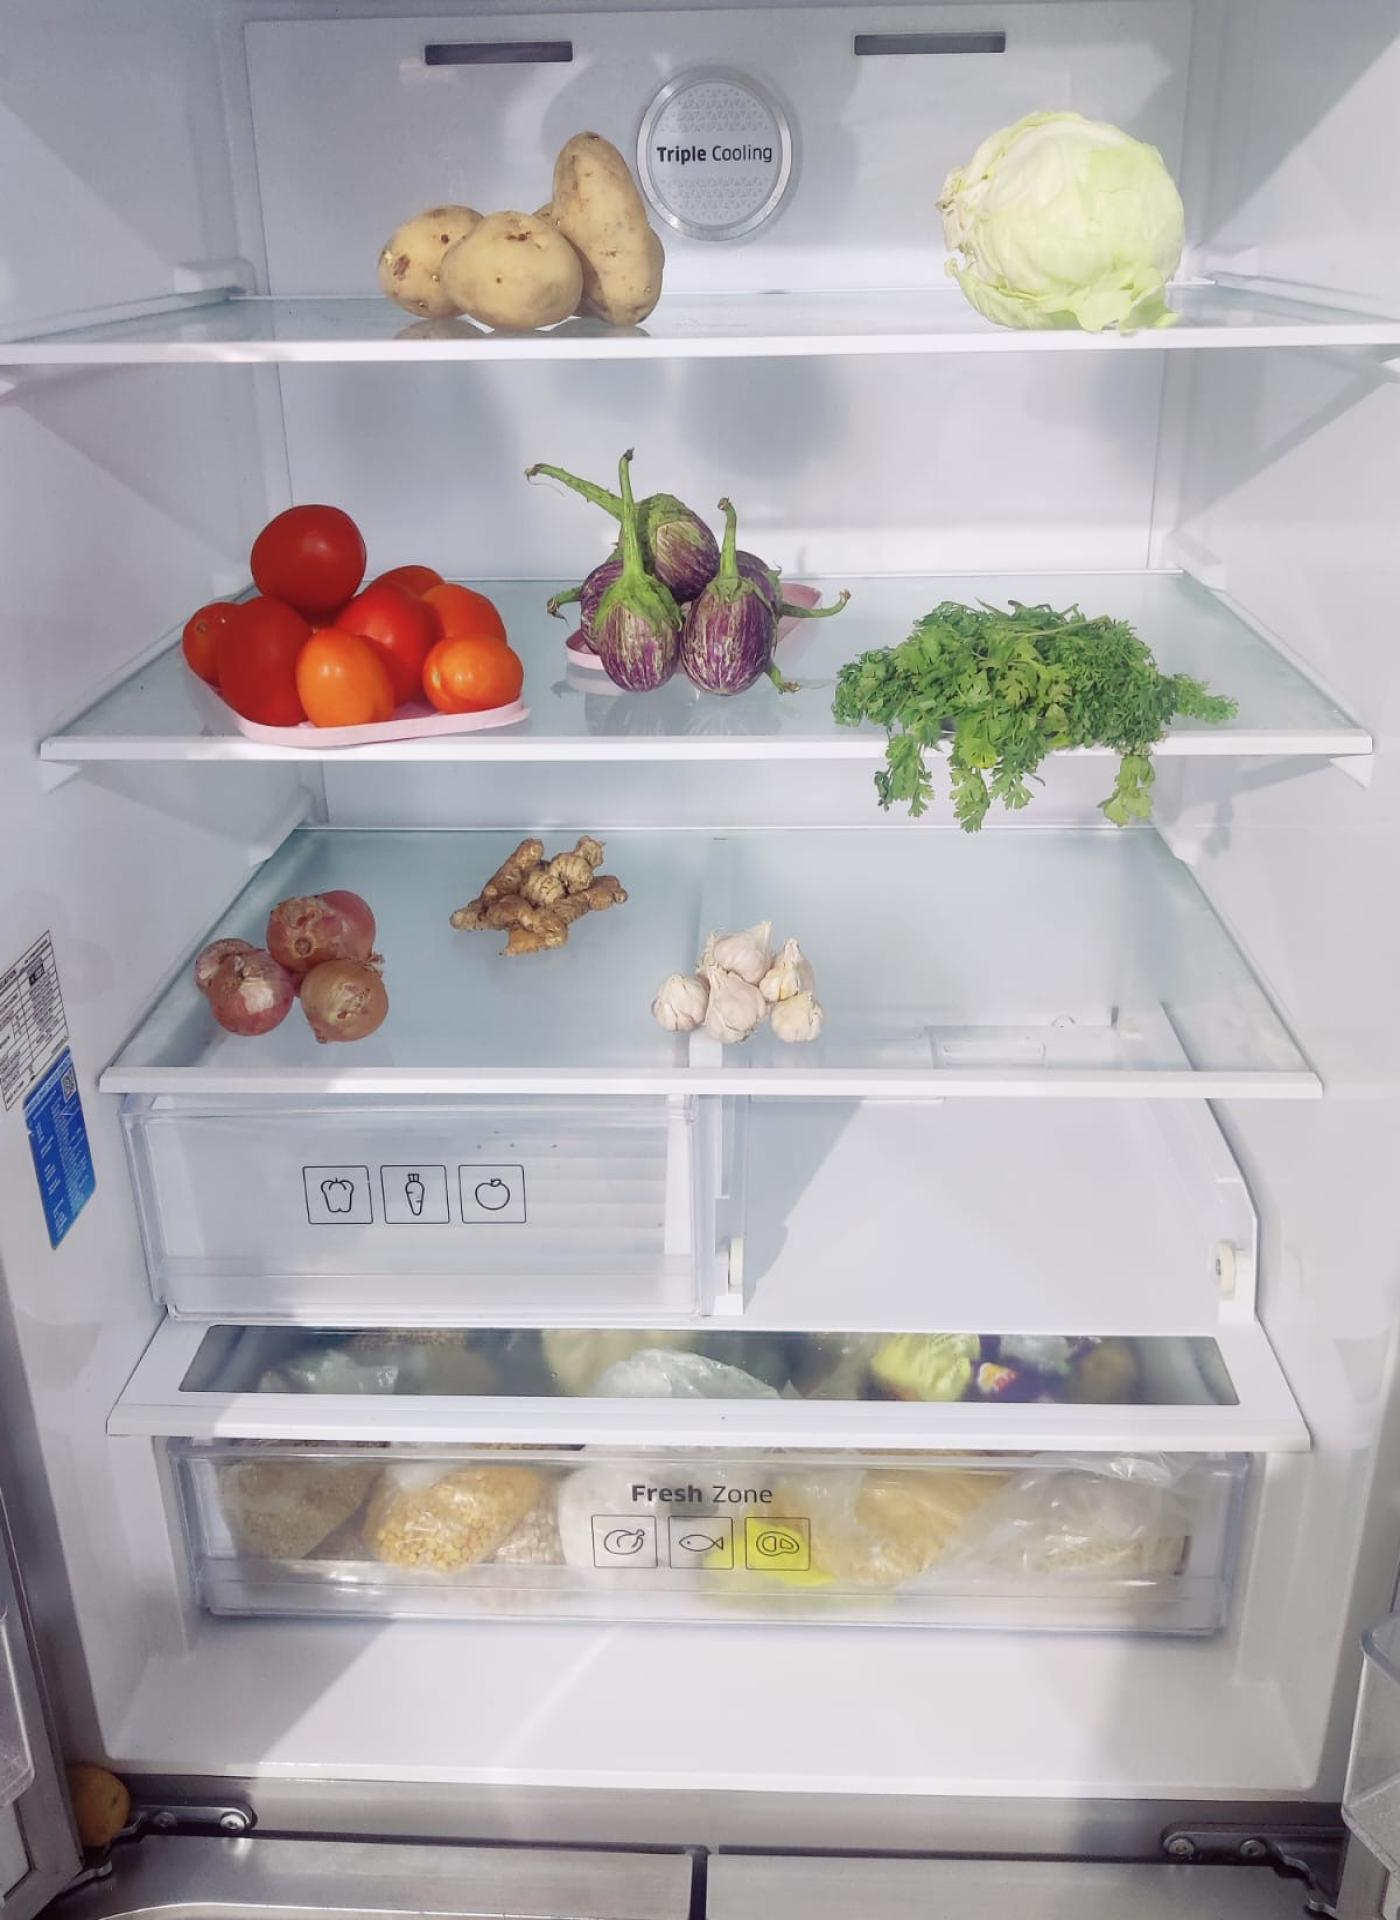brinjal: (580, 492, 786, 702)
cabbage: (947, 113, 1191, 335)
coriander: (841, 596, 1224, 769)
garlic: (660, 923, 829, 1049)
ginger: (452, 835, 628, 957)
onion: (203, 885, 400, 1049)
potato: (374, 133, 660, 323)
tomato: (185, 508, 519, 732)
